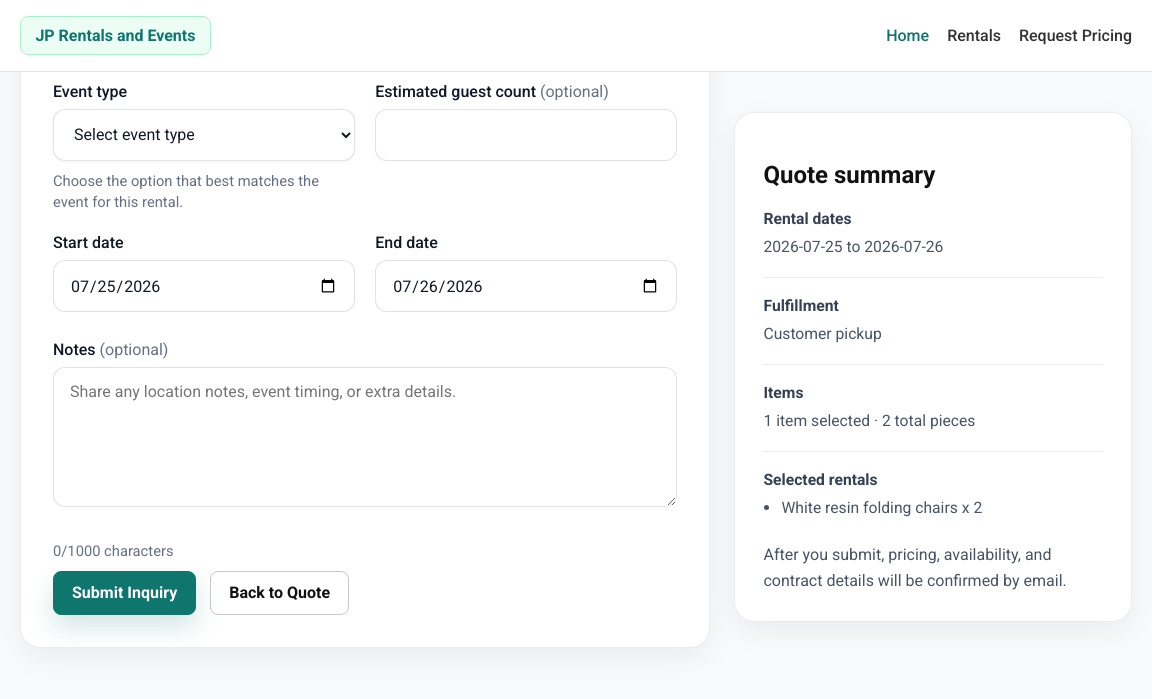
CheckoutPage › shows validation errors when required contact fields are missing
(page scrolled)
Click the button "Submit Inquiry" at (125, 593), box [53,571,196,615]
(page scrolled)
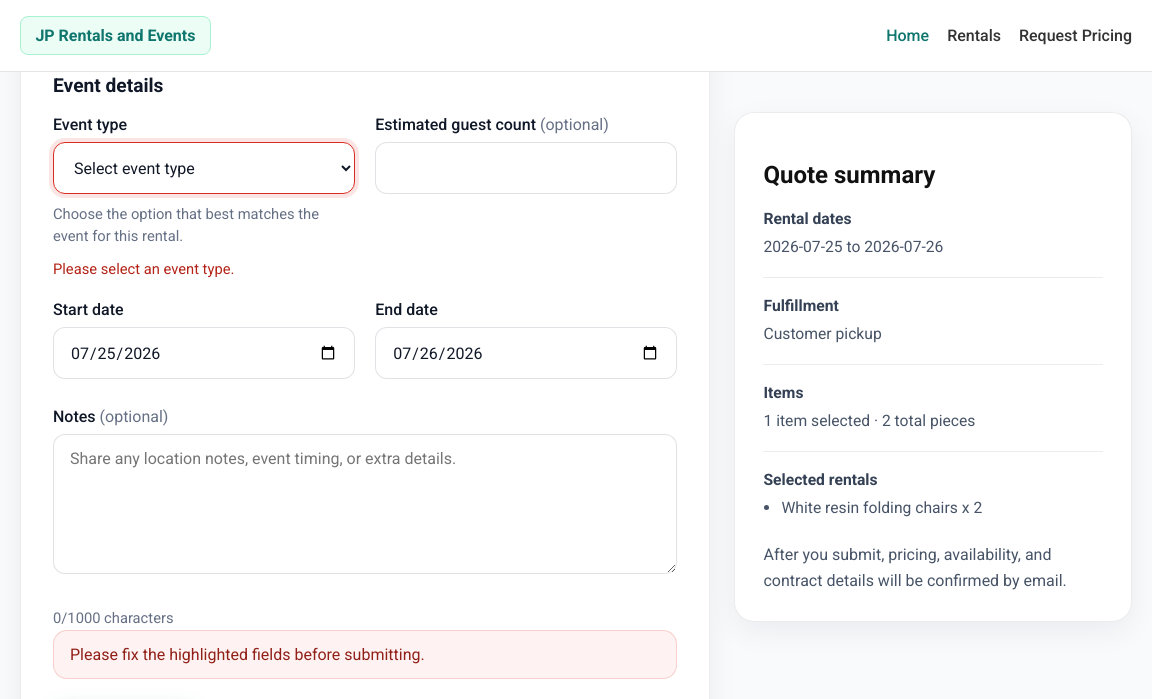
expect the text "Phone number is required." is shown: met, box [53,18,225,36]
expect the text "Please select an event type." is shown: met, box [53,260,234,278]
expect the text "Please fix the highlighted fields before submitting." is shown: met, box [70,645,425,664]
